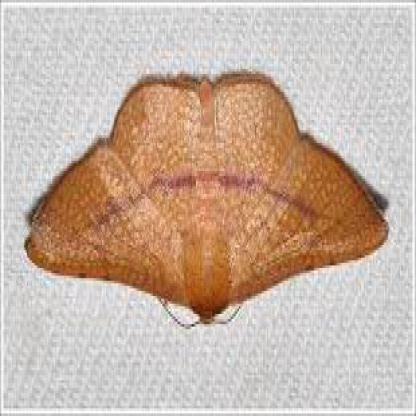Leaf Webber: (18, 59, 392, 336)
